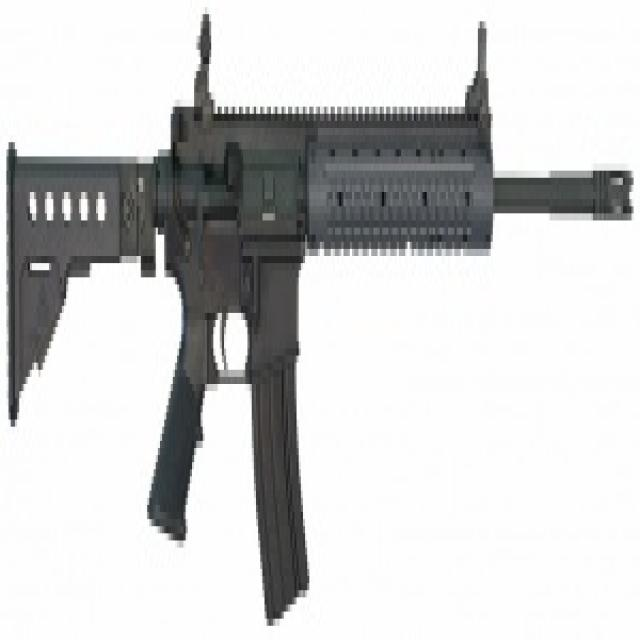rifle: (4, 9, 637, 633)
